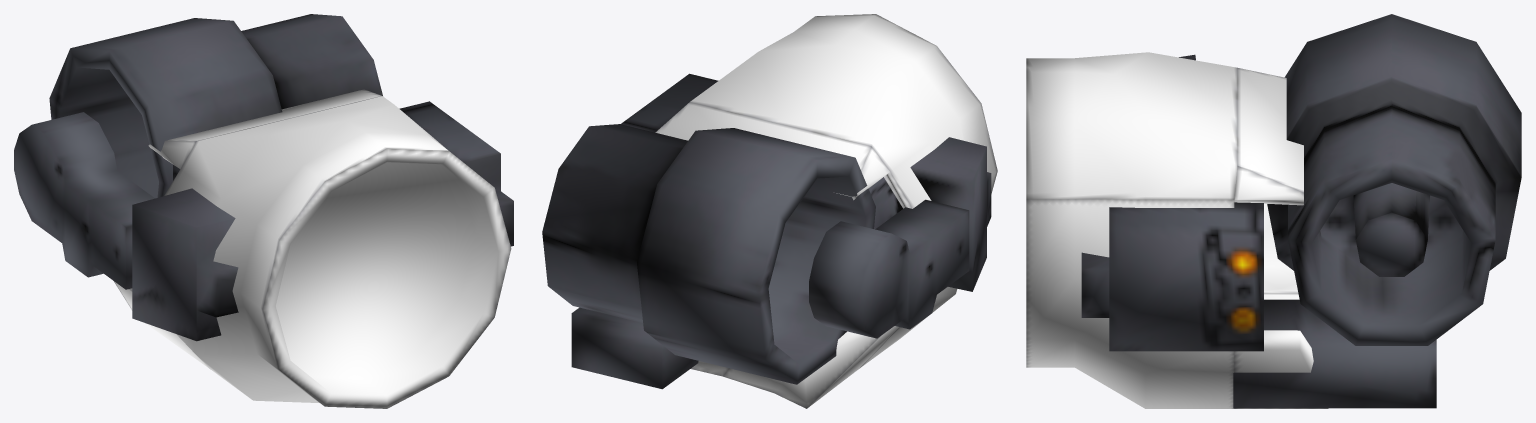
File: l_uarm.dae
The picture shows the model from 3 angles, left to right: view 1: azimuth 30°, elevation 25°; view 2: azimuth 150°, elevation 25°; view 3: azimuth 270°, elevation 25°; orthographic projection. The views are drawn at different scales.
Parts seen in each view (by area): view 1: l_uarm; view 2: l_uarm; view 3: l_uarm.
Part boxes in pixels (<box>): l_uarm: <box>14,14,513,408</box>; l_uarm: <box>542,14,997,408</box>; l_uarm: <box>1026,14,1521,408</box>.
Bounding box in the file's own units: 0.1475 × 0.1769 × 0.1261.
1 material, 1 textured.
